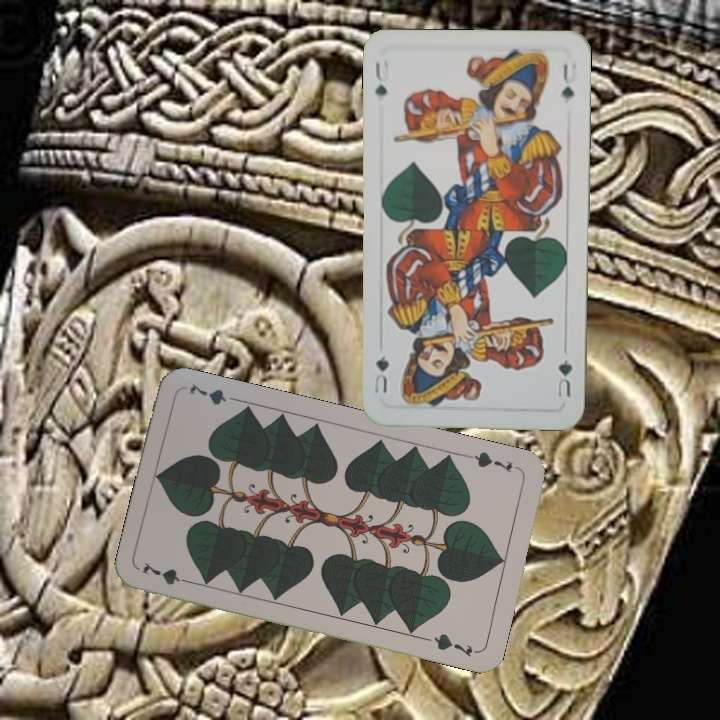G7: (138, 558, 196, 588), (464, 447, 522, 476)
GU: (553, 355, 575, 401), (371, 57, 389, 98)
